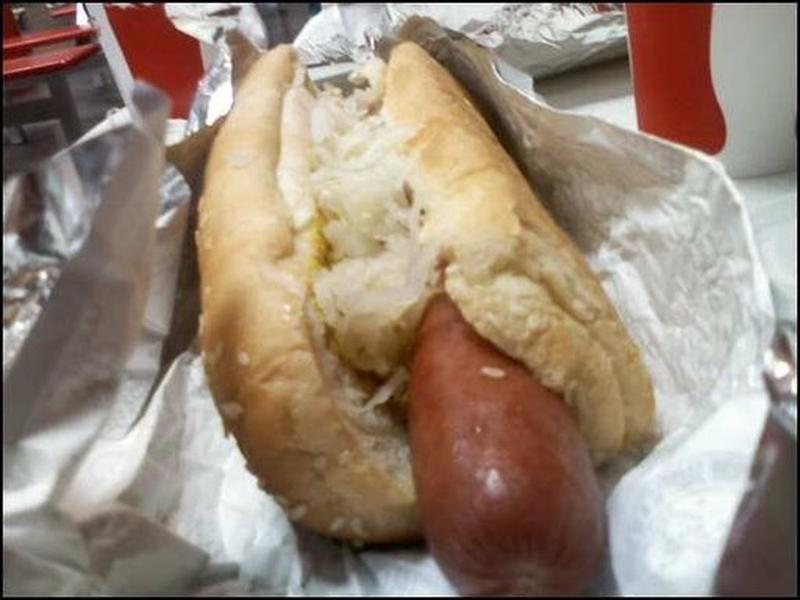hot_dog: (191, 1, 651, 591)
